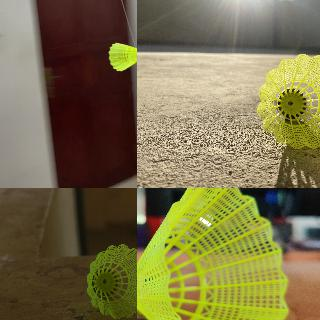shuttlecock: (137, 188, 290, 319), (256, 53, 319, 149), (87, 244, 136, 319), (107, 41, 136, 71)
